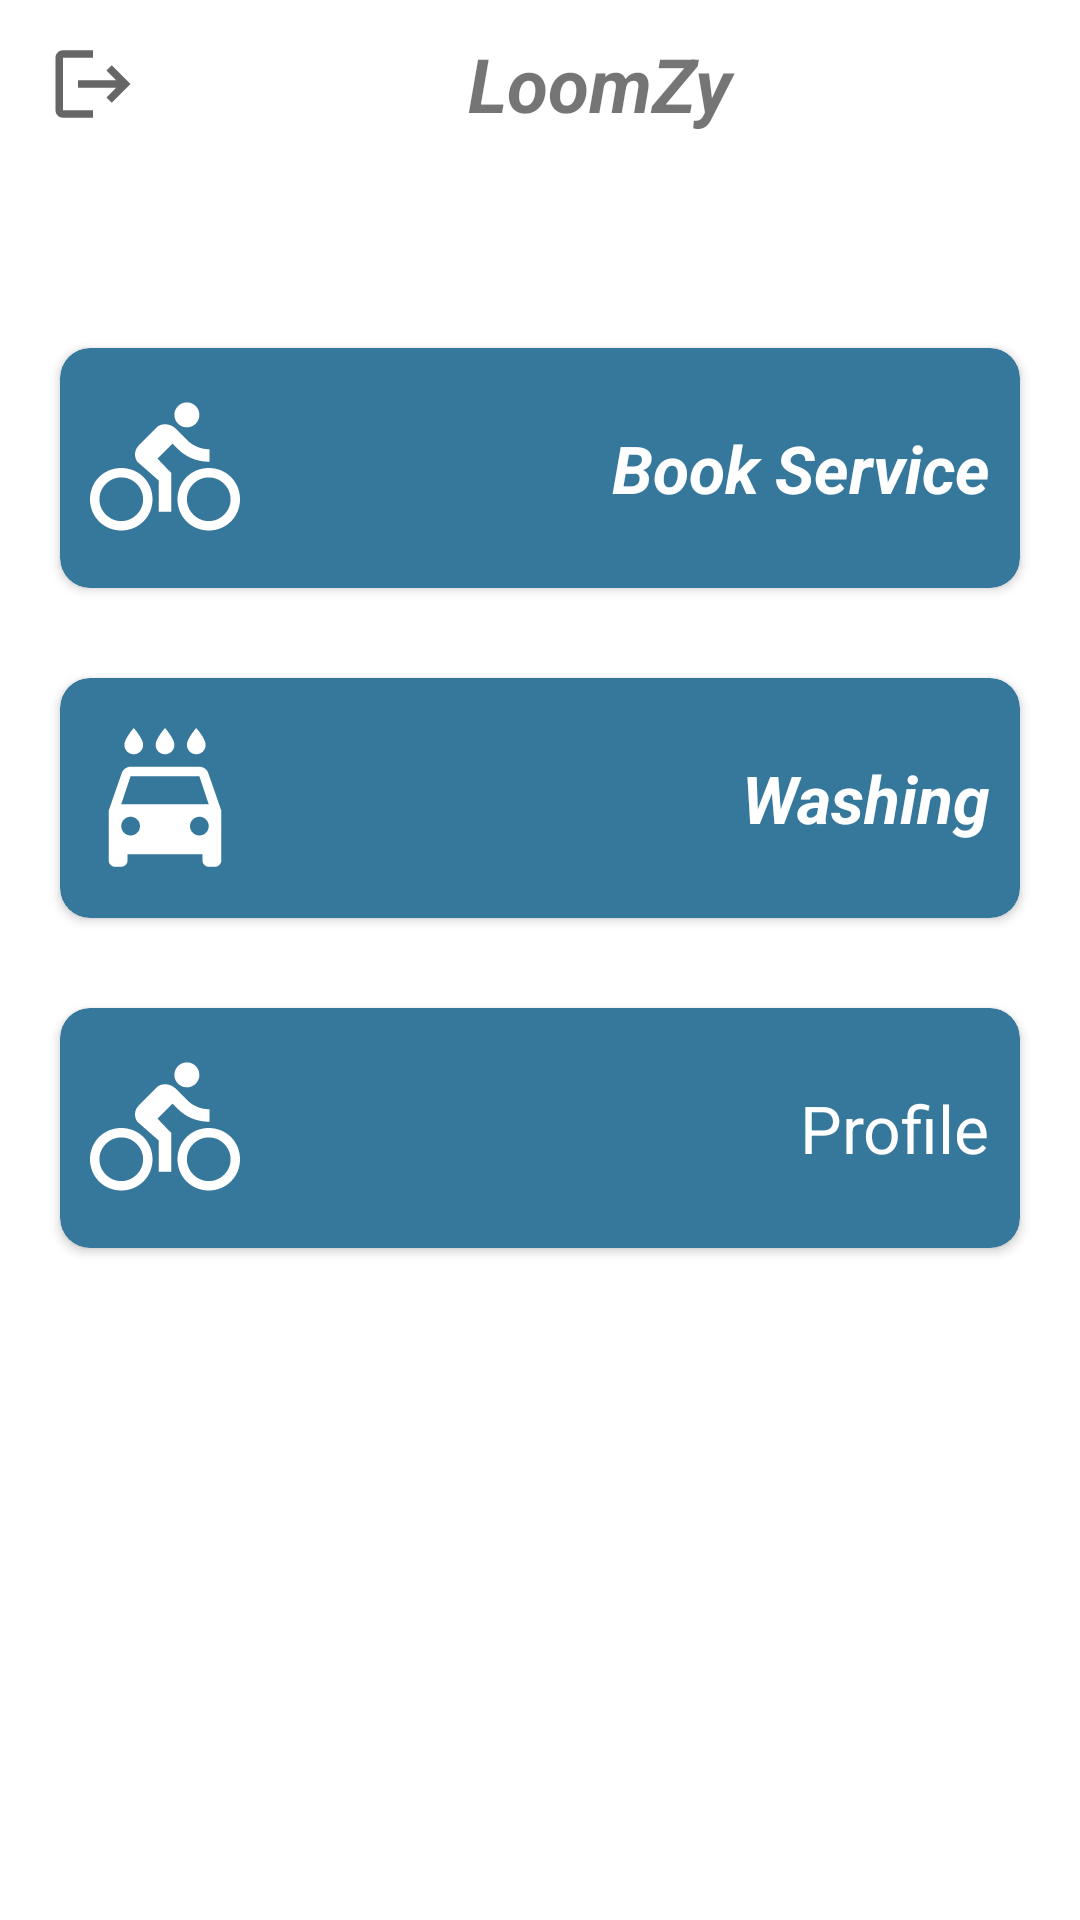

Where icons sit on this 1080px x 1920px app screen, as bbox(x1, y1, x2, y2):
directions bike: bbox(90, 402, 240, 531), bbox(90, 1062, 240, 1191)
local car wash: bbox(108, 728, 222, 867)
